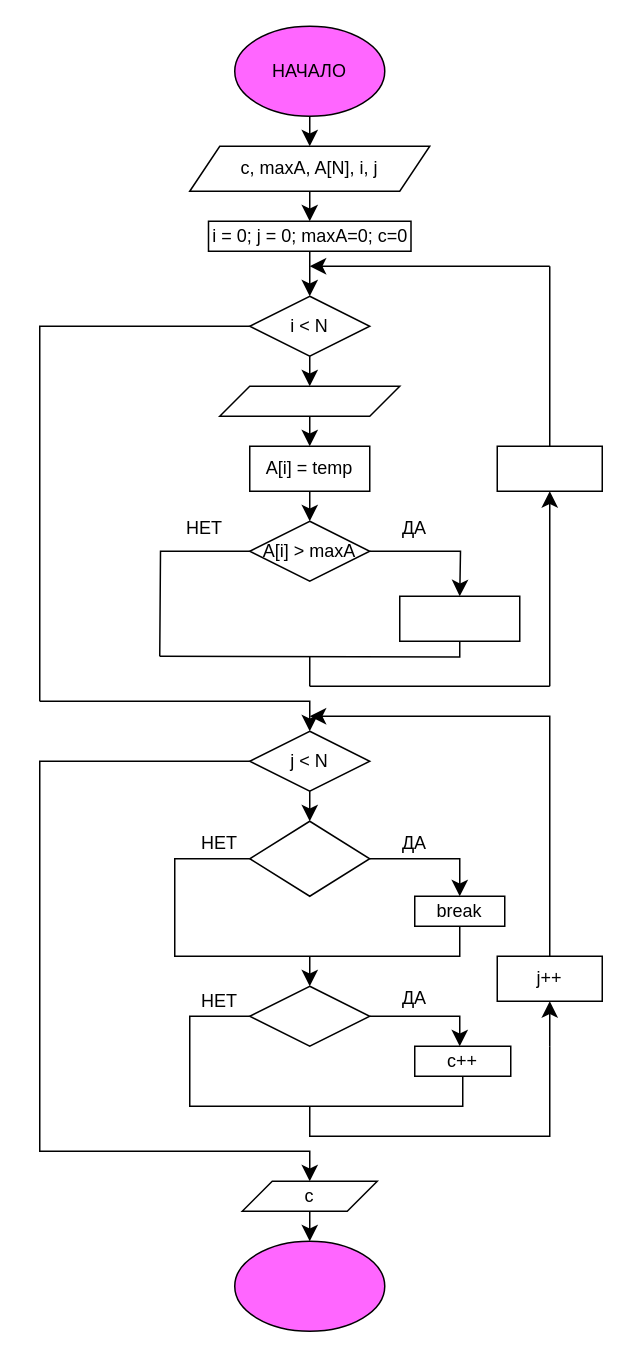
Image size: 629x1358. Some labels were removed from this diagram. The shapes that lost their labels are listed below. From the top down, each one's centre as x and y in pixels, then its label:
At [309,400]: "temp".
At [549,468]: "i ++".
At [459,618]: "maxA = A[i]".
At [309,858]: "A[j] == maxA".
At [309,1015]: "A[j] >0".
At [309,1285]: "КОНЕЦ".
